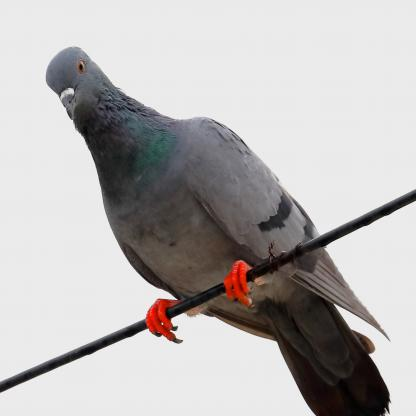Rock Pigeon: (40, 38, 392, 406)
